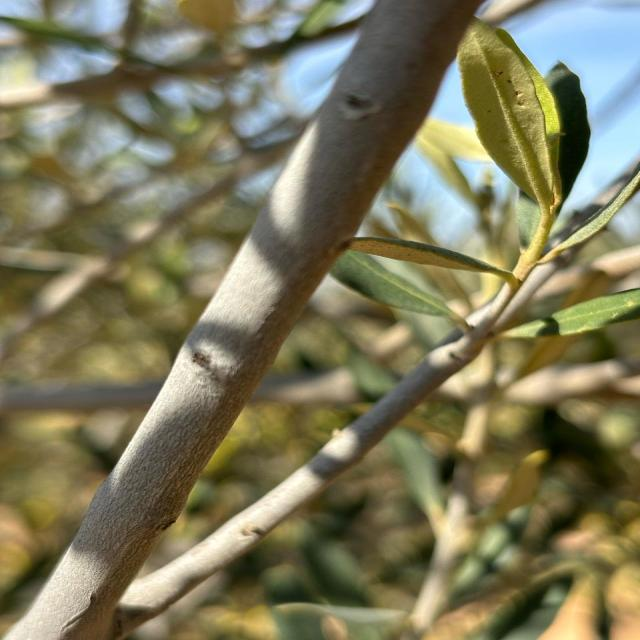Healthy: (23, 13, 457, 640)
